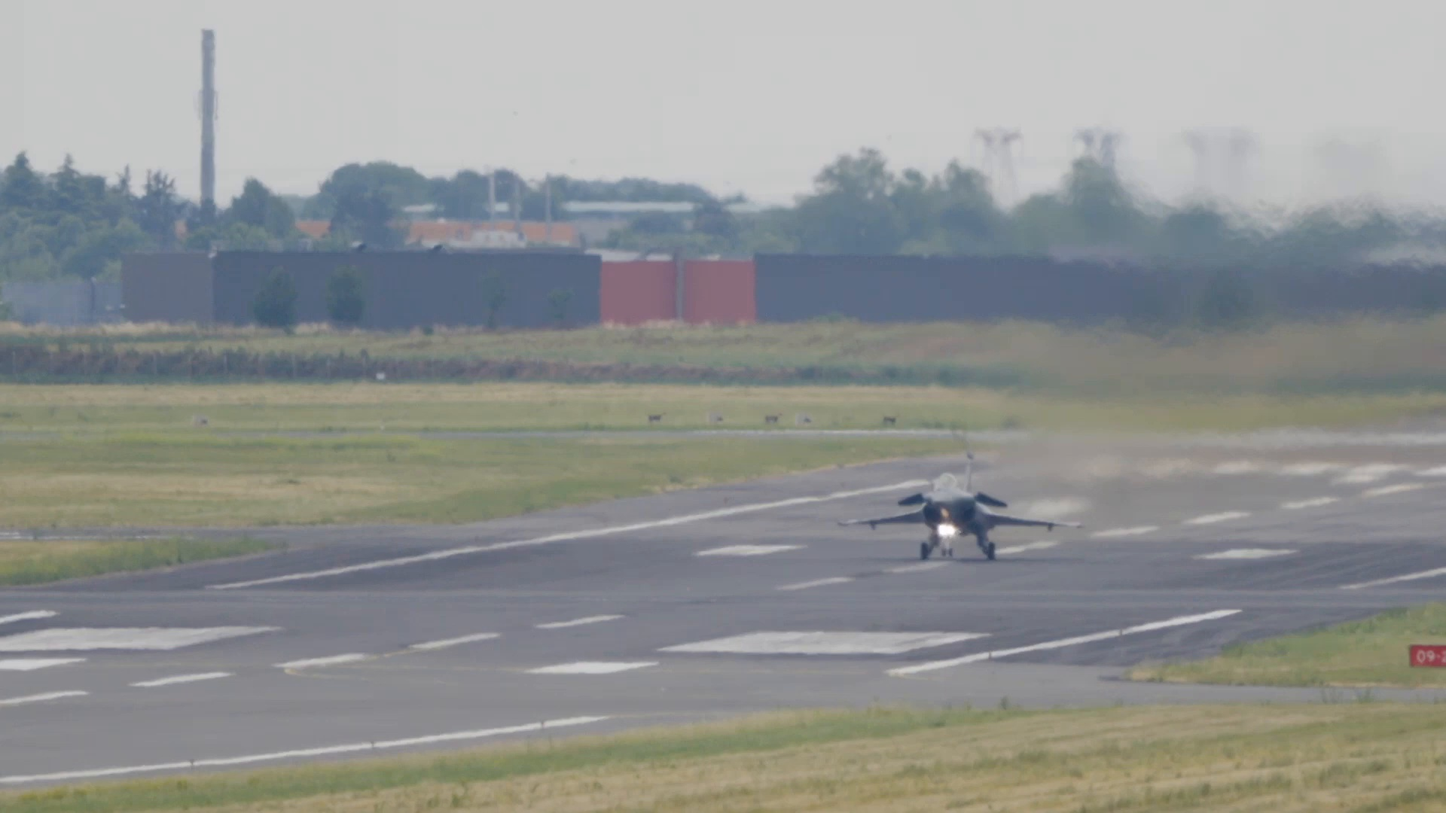Rafale: (837, 452, 1084, 562)
